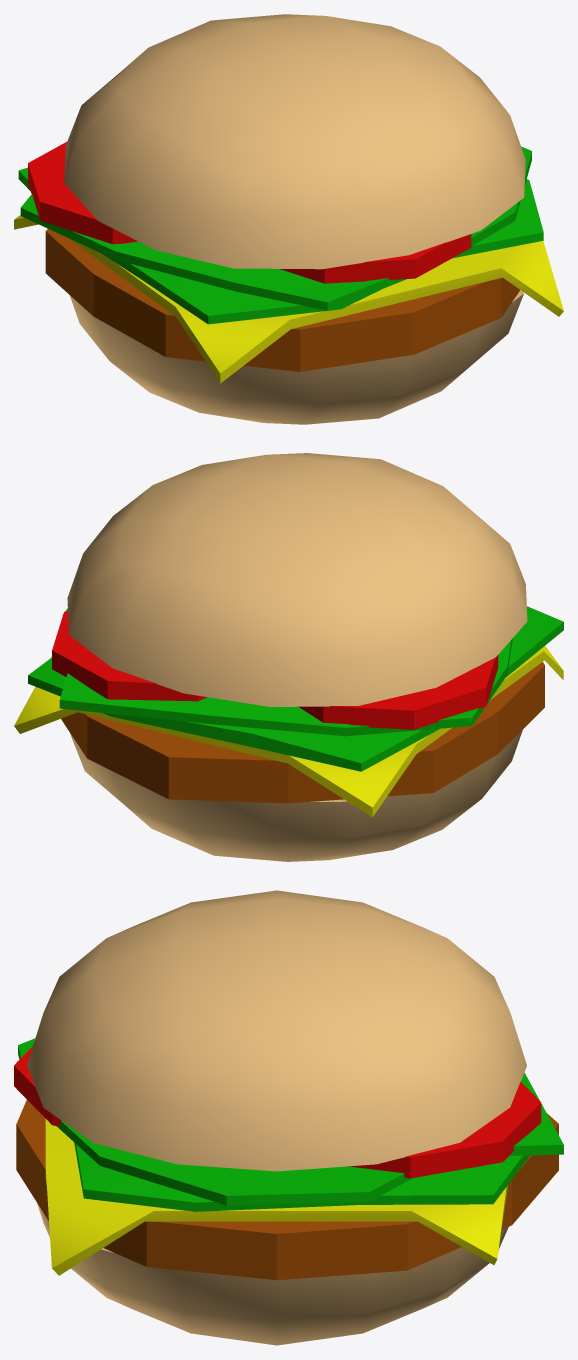
File: Burger.fbx
3 views of the same model, one above another, from view 1: azimuth 30°, elevation 25°; view 2: azimuth 150°, elevation 25°; view 3: azimuth 270°, elevation 25° (orthographic). The views are drawn at different scales.
Visible parts, largest first — view 1: pCube1, pCube2, pCylinder1, pCube3, pCube4, pCube5, pCylinder4, pCylinder2; view 2: pCube1, pCylinder1, pCube2, pCube5, pCube4, pCube3, pCylinder4, pCylinder3; view 3: pCube1, pCube2, pCylinder1, pCube3, pCube4, pCube5, pCylinder3, pCylinder2.
Part boxes in pixels (left/top/right/bottom): pCube1: left=64, top=14, right=525, bottom=269; pCube2: left=69, top=290, right=523, bottom=424; pCylinder1: left=45, top=229, right=519, bottom=371; pCube3: left=14, top=215, right=563, bottom=383; pCube4: left=20, top=146, right=531, bottom=310; pCube5: left=18, top=167, right=543, bottom=324; pCylinder4: left=28, top=142, right=137, bottom=244; pCylinder2: left=280, top=234, right=471, bottom=283; pCube1: left=67, top=453, right=527, bottom=706; pCylinder1: left=61, top=662, right=544, bottom=803; pCube2: left=69, top=730, right=522, bottom=861; pCube5: left=28, top=606, right=563, bottom=771; pCube4: left=59, top=608, right=512, bottom=736; pCube3: left=14, top=646, right=563, bottom=817; pCylinder4: left=298, top=655, right=498, bottom=729; pCylinder3: left=52, top=611, right=206, bottom=701; pCube1: left=27, top=890, right=526, bottom=1171; pCube2: left=37, top=1203, right=508, bottom=1345; pCylinder1: left=16, top=1100, right=558, bottom=1280; pCube3: left=45, top=1119, right=507, bottom=1275; pCube4: left=18, top=1038, right=563, bottom=1205; pCube5: left=74, top=1143, right=529, bottom=1211; pCylinder3: left=348, top=1081, right=541, bottom=1178; pCylinder2: left=14, top=1046, right=61, bottom=1126.
Bounding box in the file's own units: 12.87 × 9.55 × 12.8.
